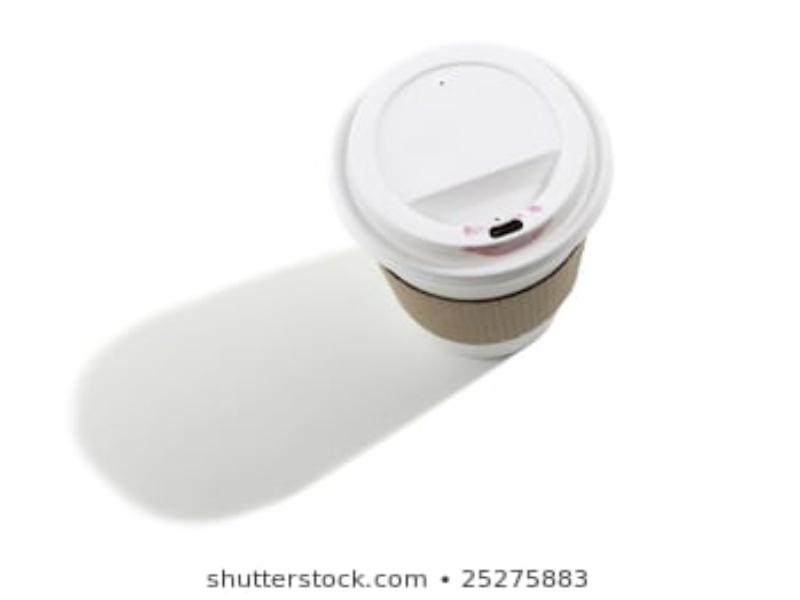coffee-lid: (331, 39, 618, 281)
plastic-cup: (334, 44, 612, 361)
